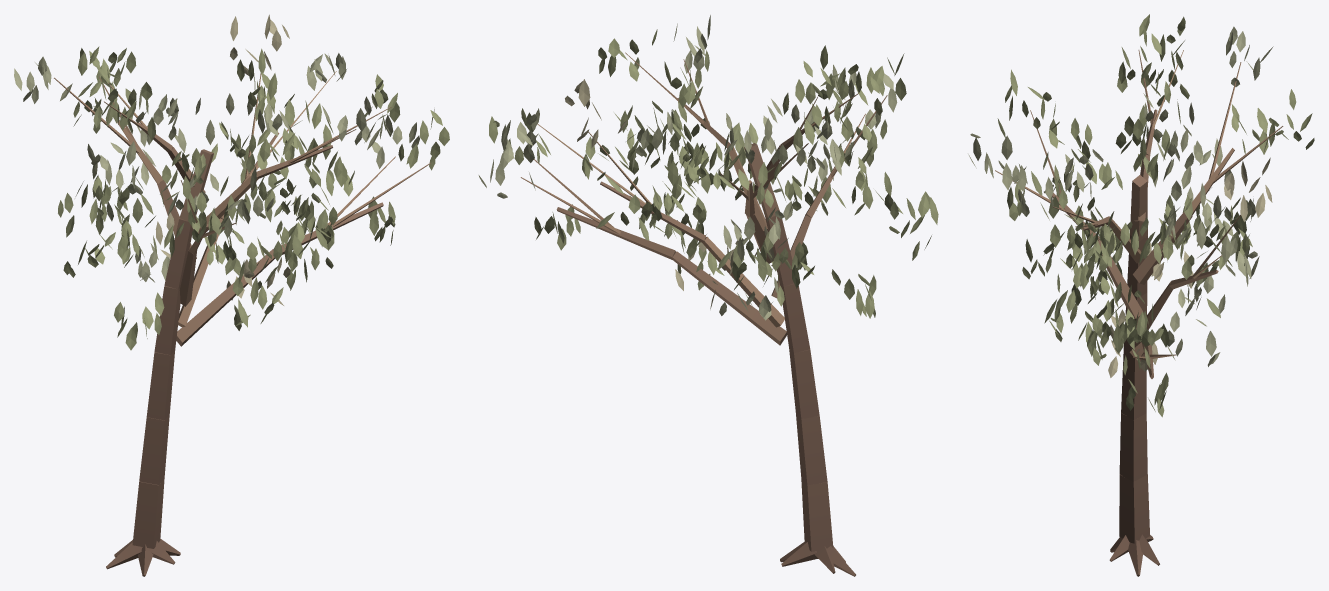
Rendered from tree_3d_04.glb.
3 renders of one model, left to right at view 1: azimuth 30°, elevation 25°; view 2: azimuth 150°, elevation 25°; view 3: azimuth 270°, elevation 25°, orthographic. The views are drawn at different scales.
Parts seen in each view (by area): view 1: tree_3d_04_foliage, tree_3d_04_wood; view 2: tree_3d_04_foliage, tree_3d_04_wood; view 3: tree_3d_04_foliage, tree_3d_04_wood.
Part boxes in pixels (x1,y1,x2,y2): tree_3d_04_foliage: [14, 14, 449, 350]; tree_3d_04_wood: [54, 71, 430, 576]; tree_3d_04_foliage: [478, 15, 938, 320]; tree_3d_04_wood: [520, 52, 887, 576]; tree_3d_04_foliage: [968, 14, 1314, 417]; tree_3d_04_wood: [995, 50, 1283, 576].
Size of the model in its own units: 9.4 by 11.5 by 6.8.
